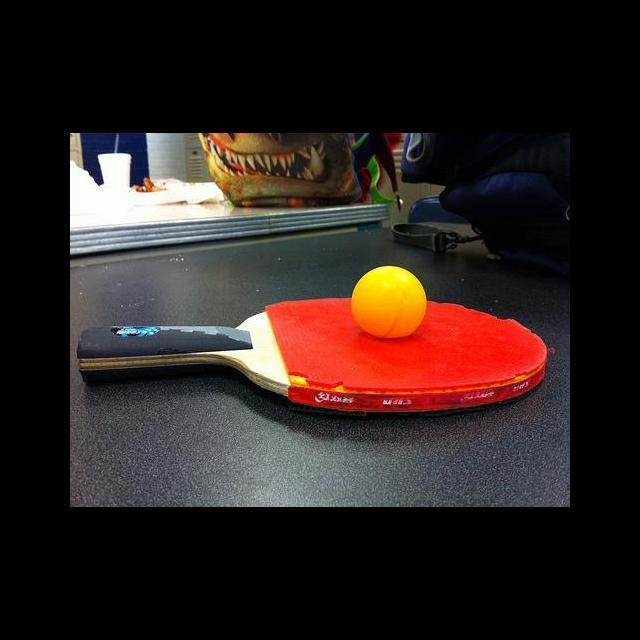ping-pong-ball: (351, 267, 426, 344)
